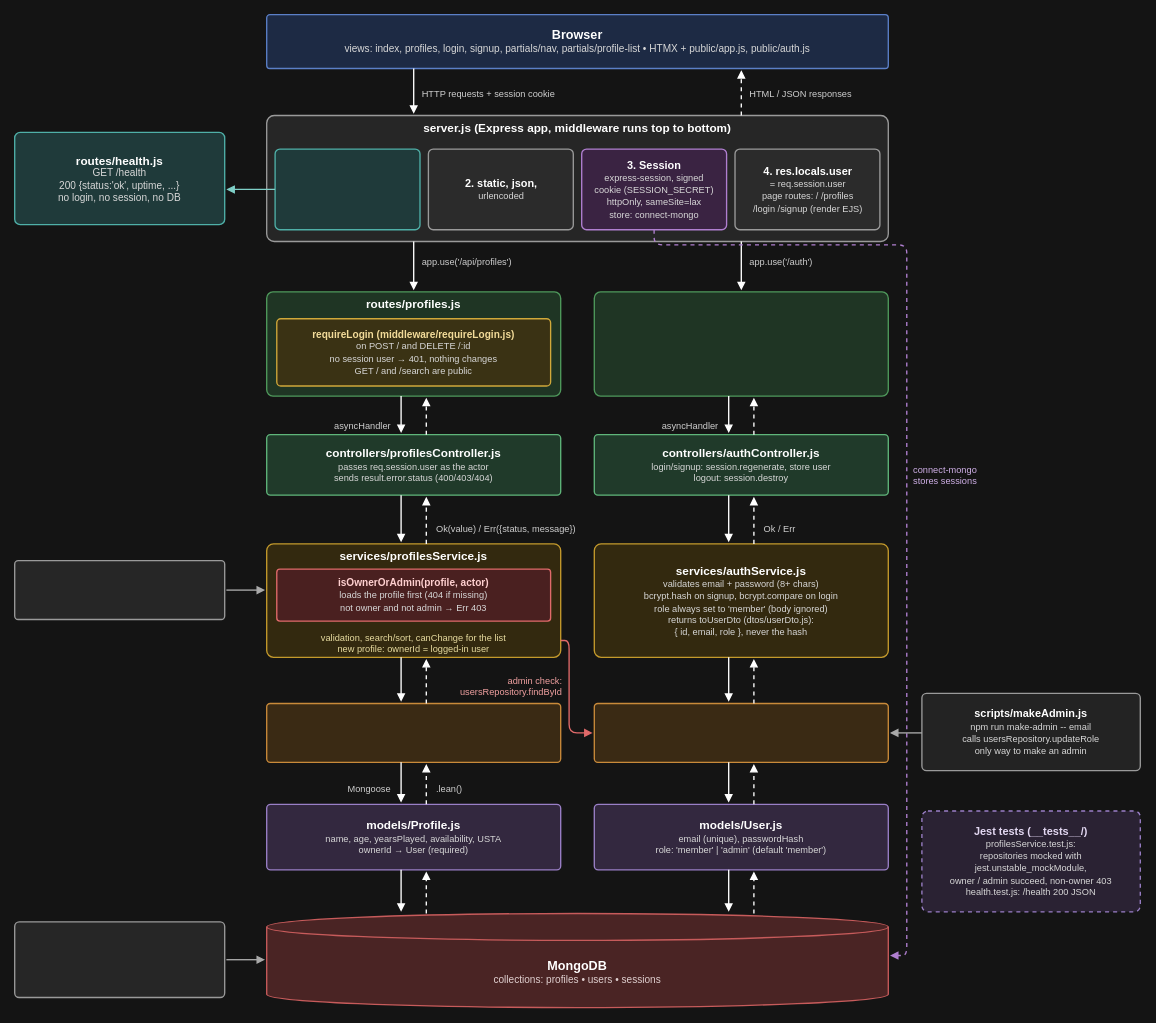
The diagram is 1156 pixels wide and 1023 high, and some of its shapes have lost their labels. The shapes that lost their labels are listed below. From the top down, each one's centre as x and y in pixels, then its label:
point (347, 189): 1. /health mounted first, before the session
point (741, 343): routes/auth.js POST /auth/signup, /auth/login, /auth/logout GET /auth/me
point (119, 590): result.js Ok(value) / Err(error) used by both services
point (413, 732): repositories/profilesRepository.js getAll, findById, create, removeById
point (741, 732): repositories/usersRepository.js findByEmail, findById, create, updateRole
point (119, 959): db.js connectDB() once at startup, before app.listen() MONGO_URL from .env
